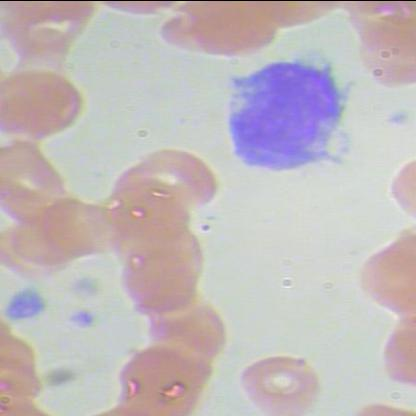Platelets: (2, 284, 47, 321), (63, 307, 96, 332), (382, 104, 415, 128)
RBC: (127, 264, 224, 346), (126, 133, 222, 215), (96, 159, 192, 241), (111, 202, 207, 284), (135, 290, 231, 372), (12, 190, 108, 272), (107, 234, 202, 316), (113, 337, 210, 415), (232, 342, 329, 416), (0, 138, 85, 222), (0, 67, 85, 150), (154, 1, 275, 59), (352, 235, 415, 318)
WBC: (221, 53, 355, 176)
